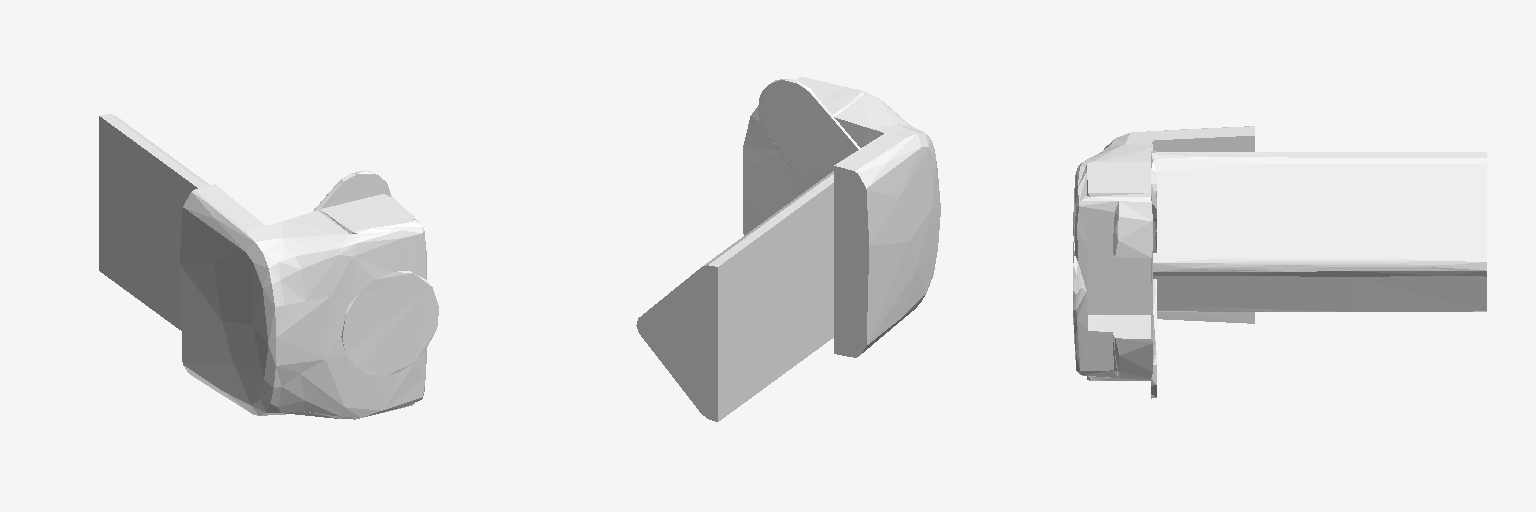
Rendered from torso_lift.obj.
3 views of the same model, side by side, from view 1: azimuth 30°, elevation 25°; view 2: azimuth 150°, elevation 25°; view 3: azimuth 270°, elevation 25° (orthographic).
Size of the model in its own units: 4.07 by 5.28 by 8.22.